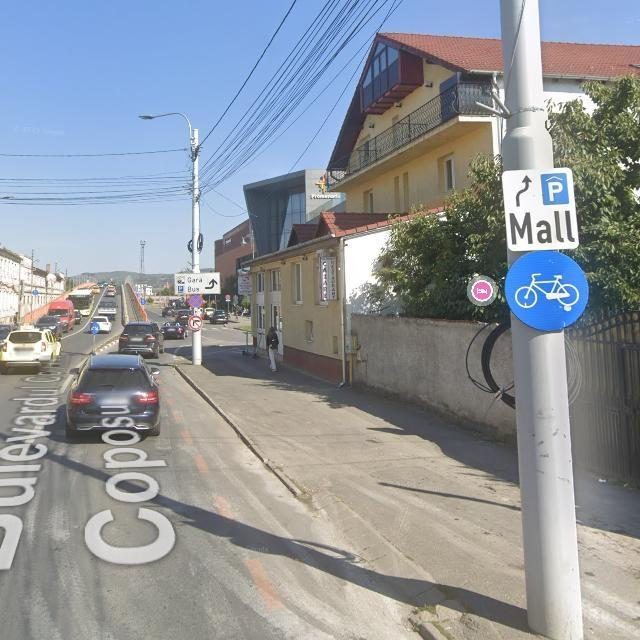forb_waiting: (189, 295, 204, 309)
